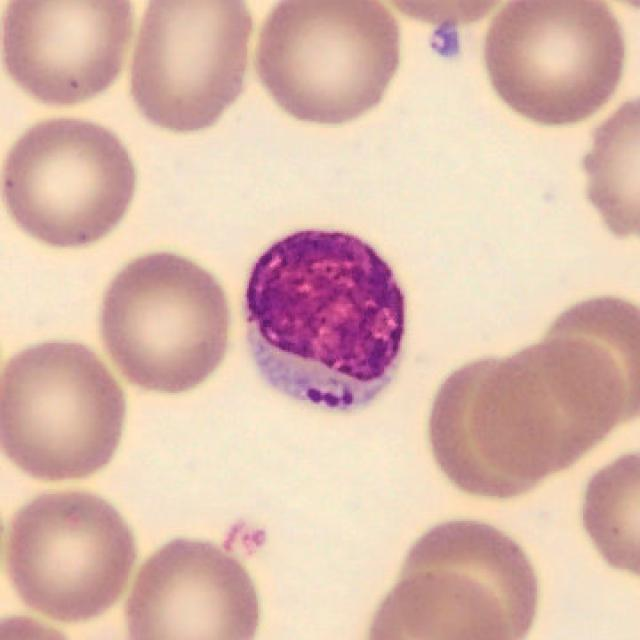Linfocito: (247, 231, 404, 407)
